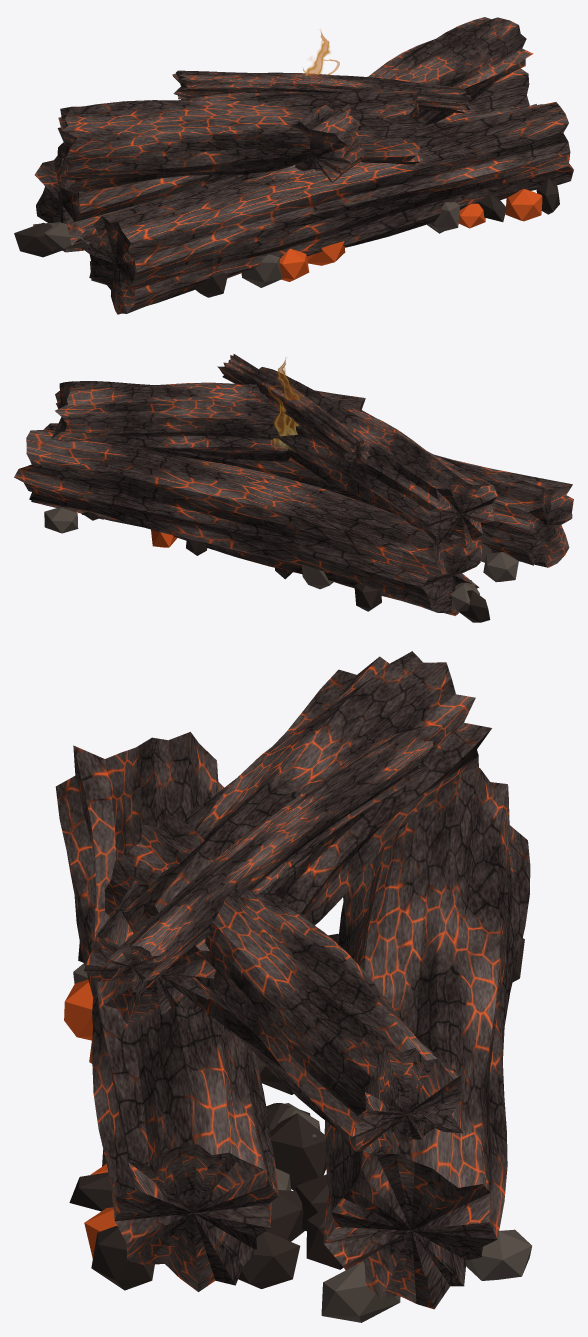
Rendered from Lenha-e-brasas-v2.glb.
3 views of the same model, one above another, from view 1: azimuth 30°, elevation 25°; view 2: azimuth 150°, elevation 25°; view 3: azimuth 270°, elevation 25° (orthographic). The views are drawn at different scales.
Visible parts, largest first — view 1: Lenha_frontal, Lenha_partida, Lenha_inclinada, Lenha_fundo, Graveto, Leito_Brasa, Leito_Carvao, Leito_Cinza, Molde_Labareda; view 2: Lenha_fundo, Lenha_inclinada, Lenha_partida, Lenha_frontal, Graveto, Leito_Cinza, Leito_Carvao, Molde_Labareda; view 3: Lenha_fundo, Lenha_frontal, Lenha_inclinada, Lenha_partida, Graveto, Leito_Carvao, Leito_Cinza, Leito_Brasa.
Boxes of the visible parts, bbox=[...] form: Lenha_frontal: bbox=[84, 102, 573, 314]; Lenha_partida: bbox=[57, 90, 424, 193]; Lenha_inclinada: bbox=[290, 17, 533, 182]; Lenha_fundo: bbox=[34, 68, 529, 252]; Graveto: bbox=[172, 70, 473, 113]; Leito_Brasa: bbox=[279, 189, 542, 281]; Leito_Carvao: bbox=[14, 178, 559, 297]; Leito_Cinza: bbox=[33, 202, 460, 287]; Molde_Labareda: bbox=[303, 29, 339, 75]; Lenha_fundo: bbox=[14, 423, 482, 615]; Lenha_inclinada: bbox=[51, 381, 365, 461]; Lenha_partida: bbox=[259, 367, 497, 548]; Lenha_frontal: bbox=[146, 448, 573, 567]; Graveto: bbox=[217, 354, 370, 464]; Leito_Cinza: bbox=[44, 507, 518, 611]; Leito_Carvao: bbox=[82, 512, 490, 622]; Molde_Labareda: bbox=[268, 358, 302, 450]; Lenha_fundo: bbox=[323, 766, 530, 1309]; Lenha_frontal: bbox=[55, 732, 278, 1291]; Lenha_inclinada: bbox=[104, 814, 463, 1153]; Lenha_partida: bbox=[84, 651, 491, 1023]; Graveto: bbox=[104, 729, 433, 997]; Leito_Carvao: bbox=[69, 933, 524, 1290]; Leito_Cinza: bbox=[73, 963, 531, 1322]; Leito_Brasa: bbox=[64, 979, 116, 1258].
Size of the model in its own units: 4.18 by 1.69 by 1.86.
5 materials, 5 textured.
